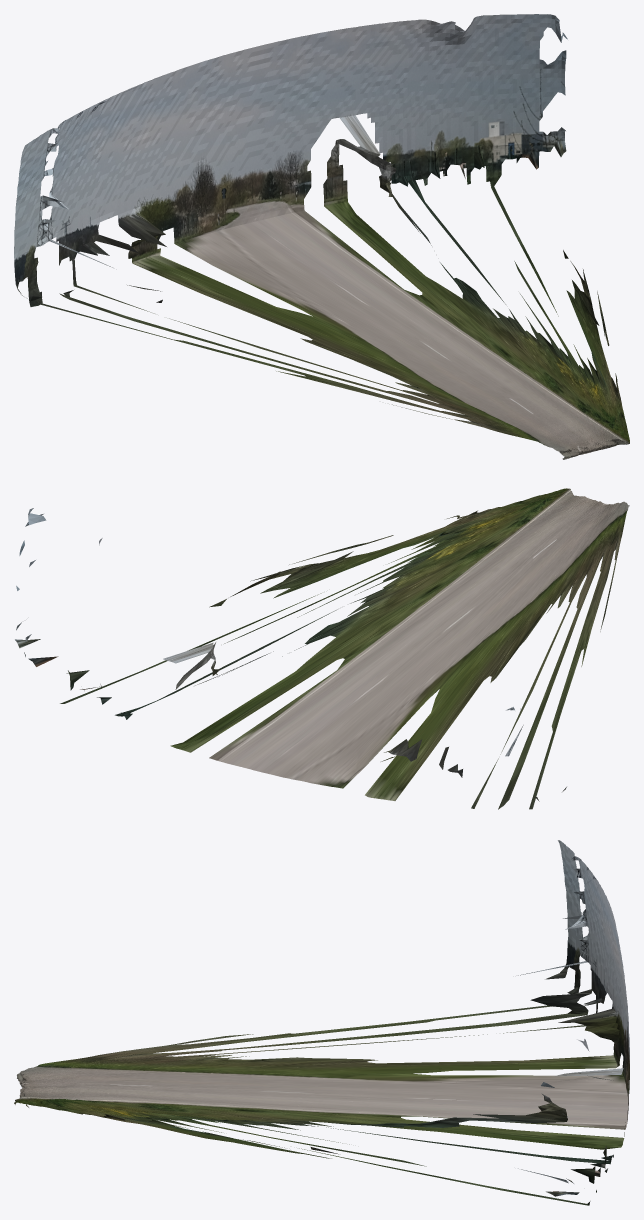
3 views of the same model, one above another, from view 1: azimuth 30°, elevation 25°; view 2: azimuth 150°, elevation 25°; view 3: azimuth 270°, elevation 25° (orthographic). The views are drawn at different scales.
Parts seen in each view (by area): view 1: defaultobject; view 2: defaultobject; view 3: defaultobject.
Part boxes in pixels (<box>): defaultobject: <box>14,14,629,459</box>; defaultobject: <box>15,488,629,809</box>; defaultobject: <box>14,840,629,1205</box>.
Size of the model in its own units: 41.09 by 13.18 by 44.52.
Materials: 1 (1 with a texture image).
